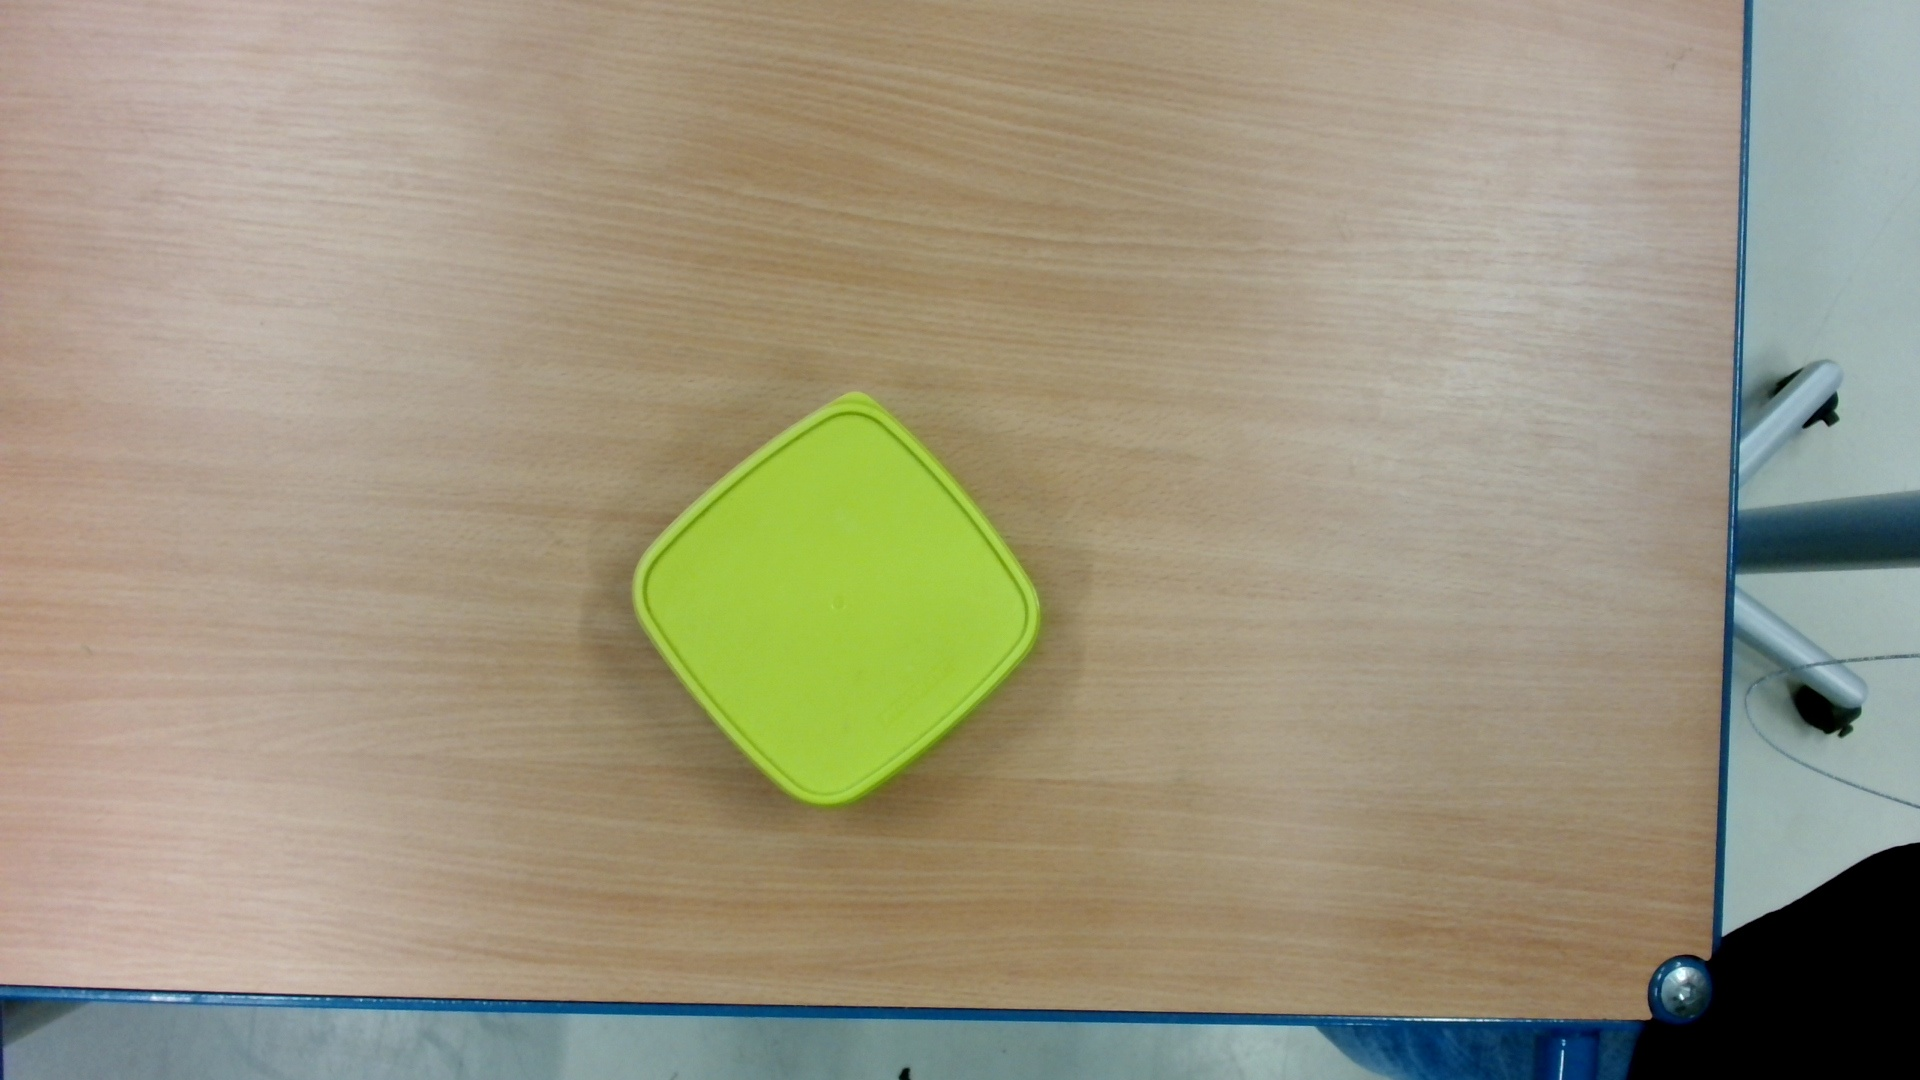Box: (625, 383, 1051, 822)
